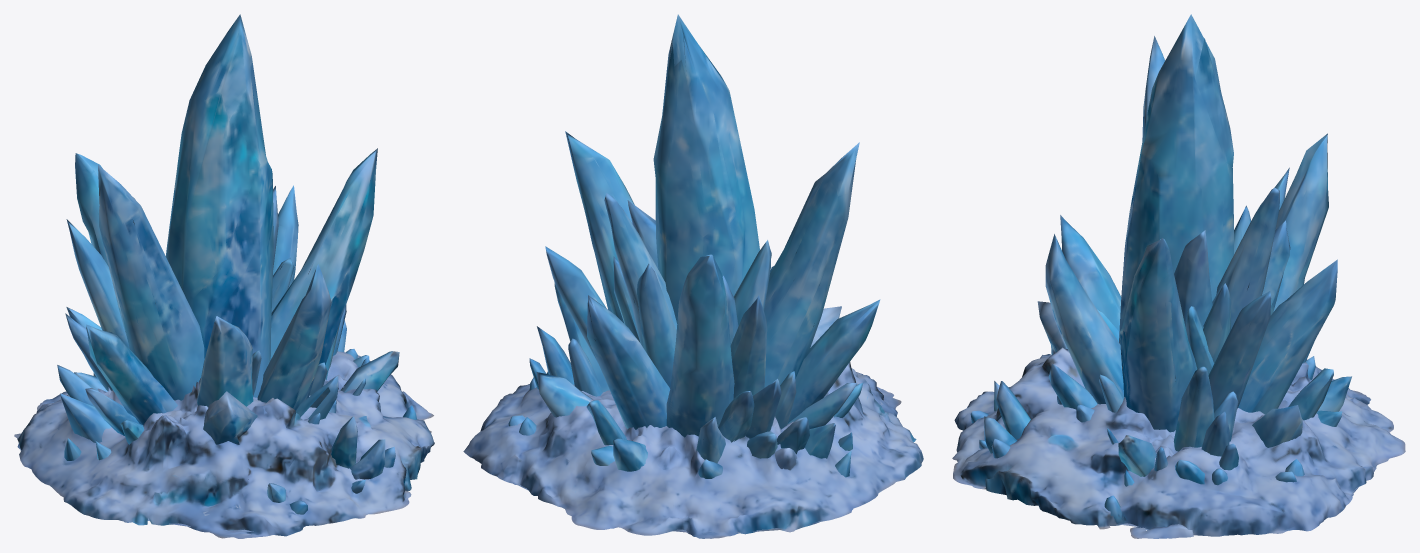
File: frost_1.glb
3 views of the same model, side by side, from view 1: azimuth 30°, elevation 25°; view 2: azimuth 150°, elevation 25°; view 3: azimuth 270°, elevation 25° (orthographic). The views are drawn at different scales.
Visible parts, largest first — view 1: geometry_0; view 2: geometry_0; view 3: geometry_0.
Boxes of the visible parts, bbox=[...] form: geometry_0: bbox=[14, 14, 434, 538]; geometry_0: bbox=[463, 14, 923, 538]; geometry_0: bbox=[952, 14, 1405, 538].
Size of the model in its own units: 0.8564 by 0.9502 by 0.8823.
1 material, 1 textured.
